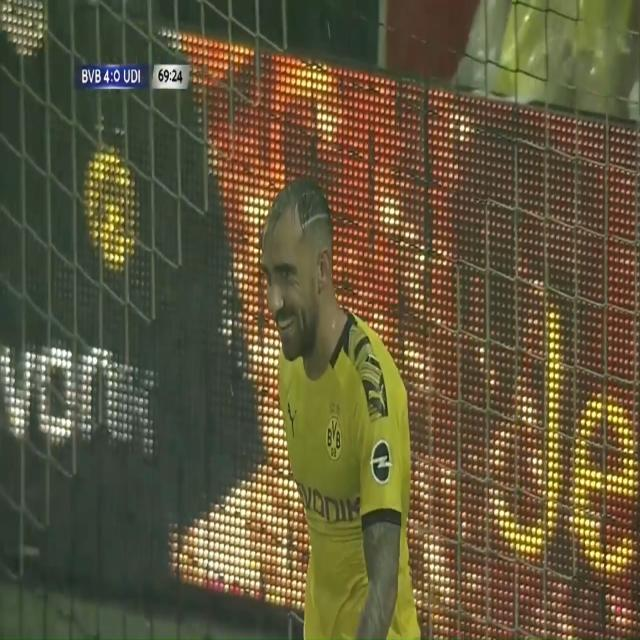player: (227, 147, 436, 640)
